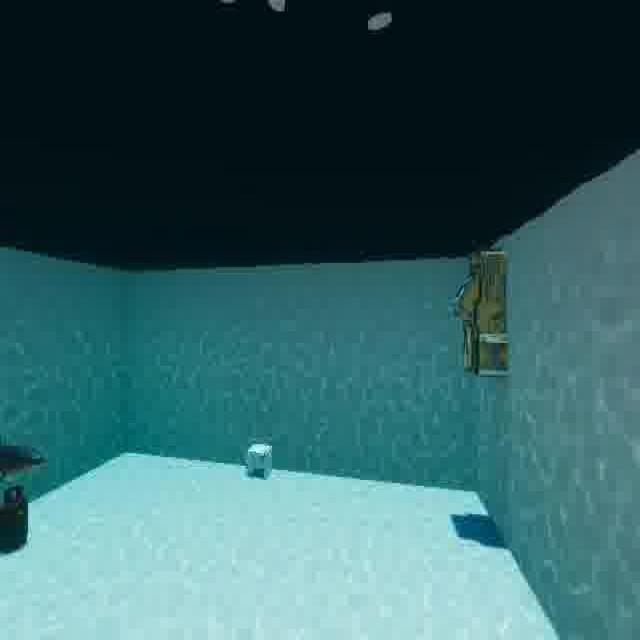Control Panel: (450, 237, 515, 383)
Cylinder: (0, 480, 35, 563)
Docking Station: (242, 436, 278, 484)
Whale: (0, 428, 49, 488)
